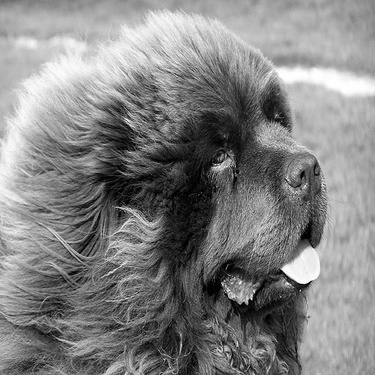dog: (1, 9, 339, 373)
